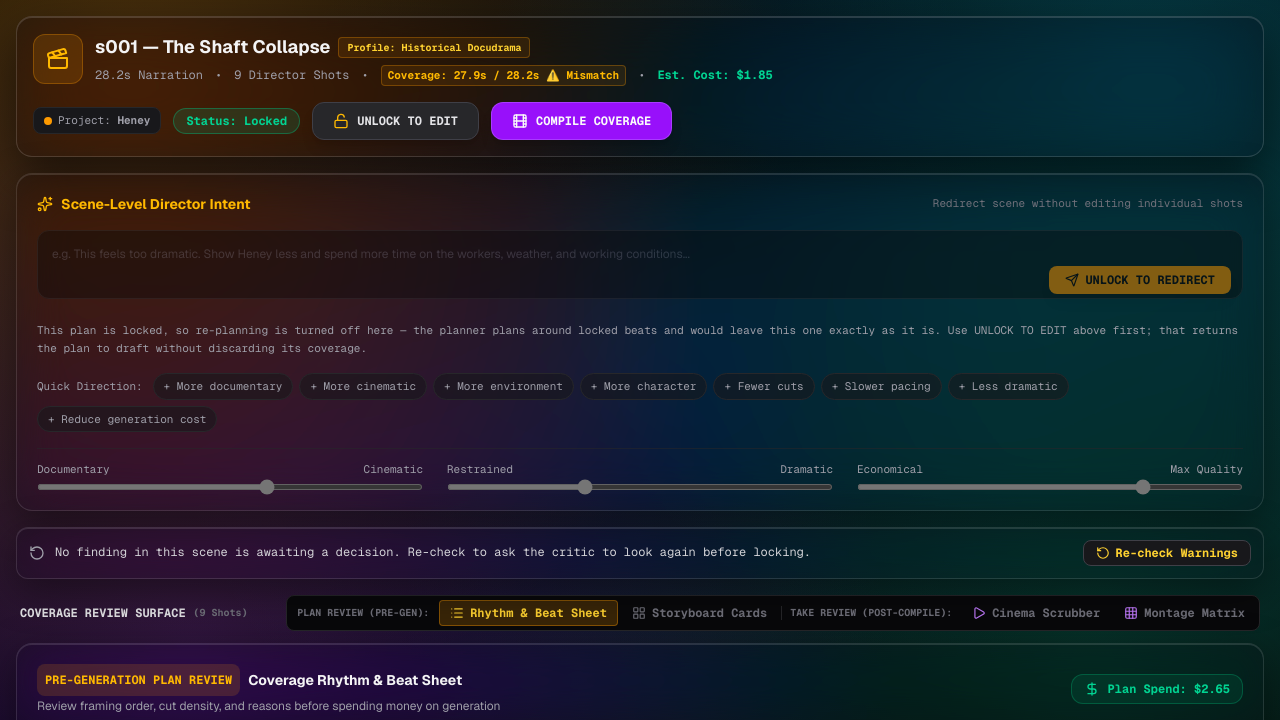
the montage matrix shows this film, not the fixture › the shot count is counted, not asserted
This screenshot has width=1280, height=720.
Click the button "Montage Matrix". click: click(1185, 613)
box: [1114,601,1255,625]
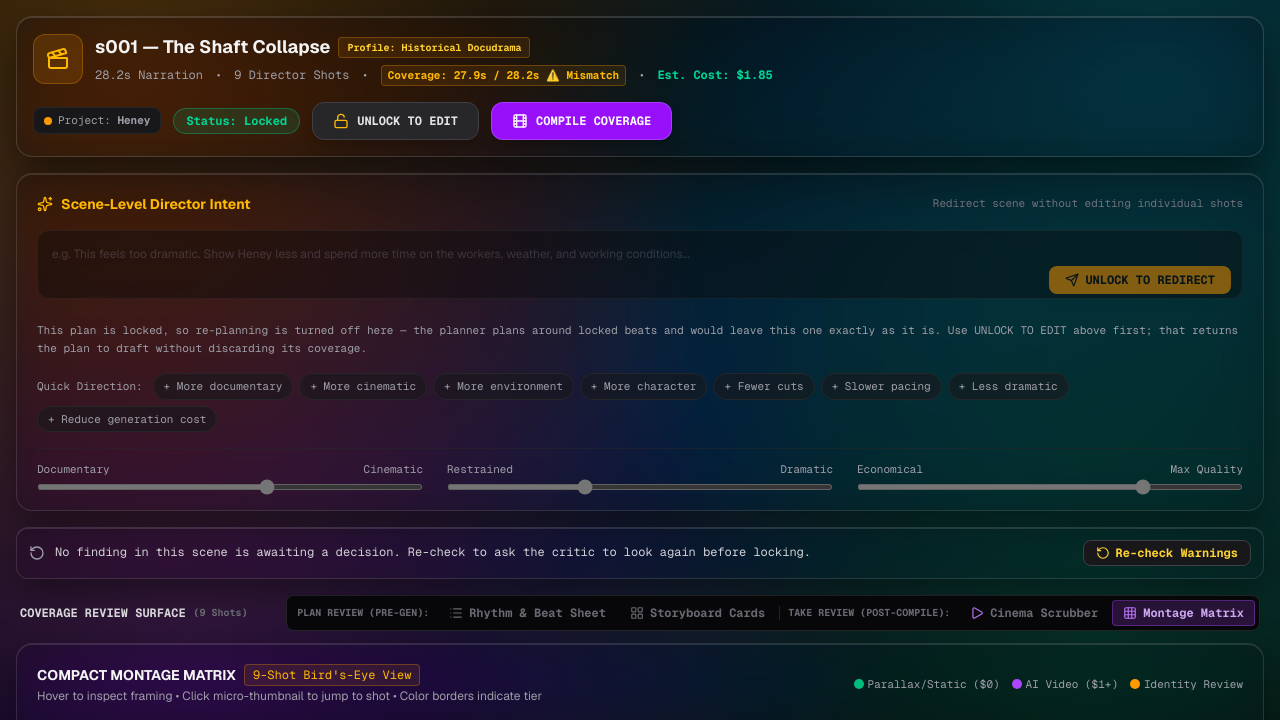
Expected: the text with test id "matrix-shot-count" reads "9-Shot Bird's-Eye View", [244,664,420,686]
